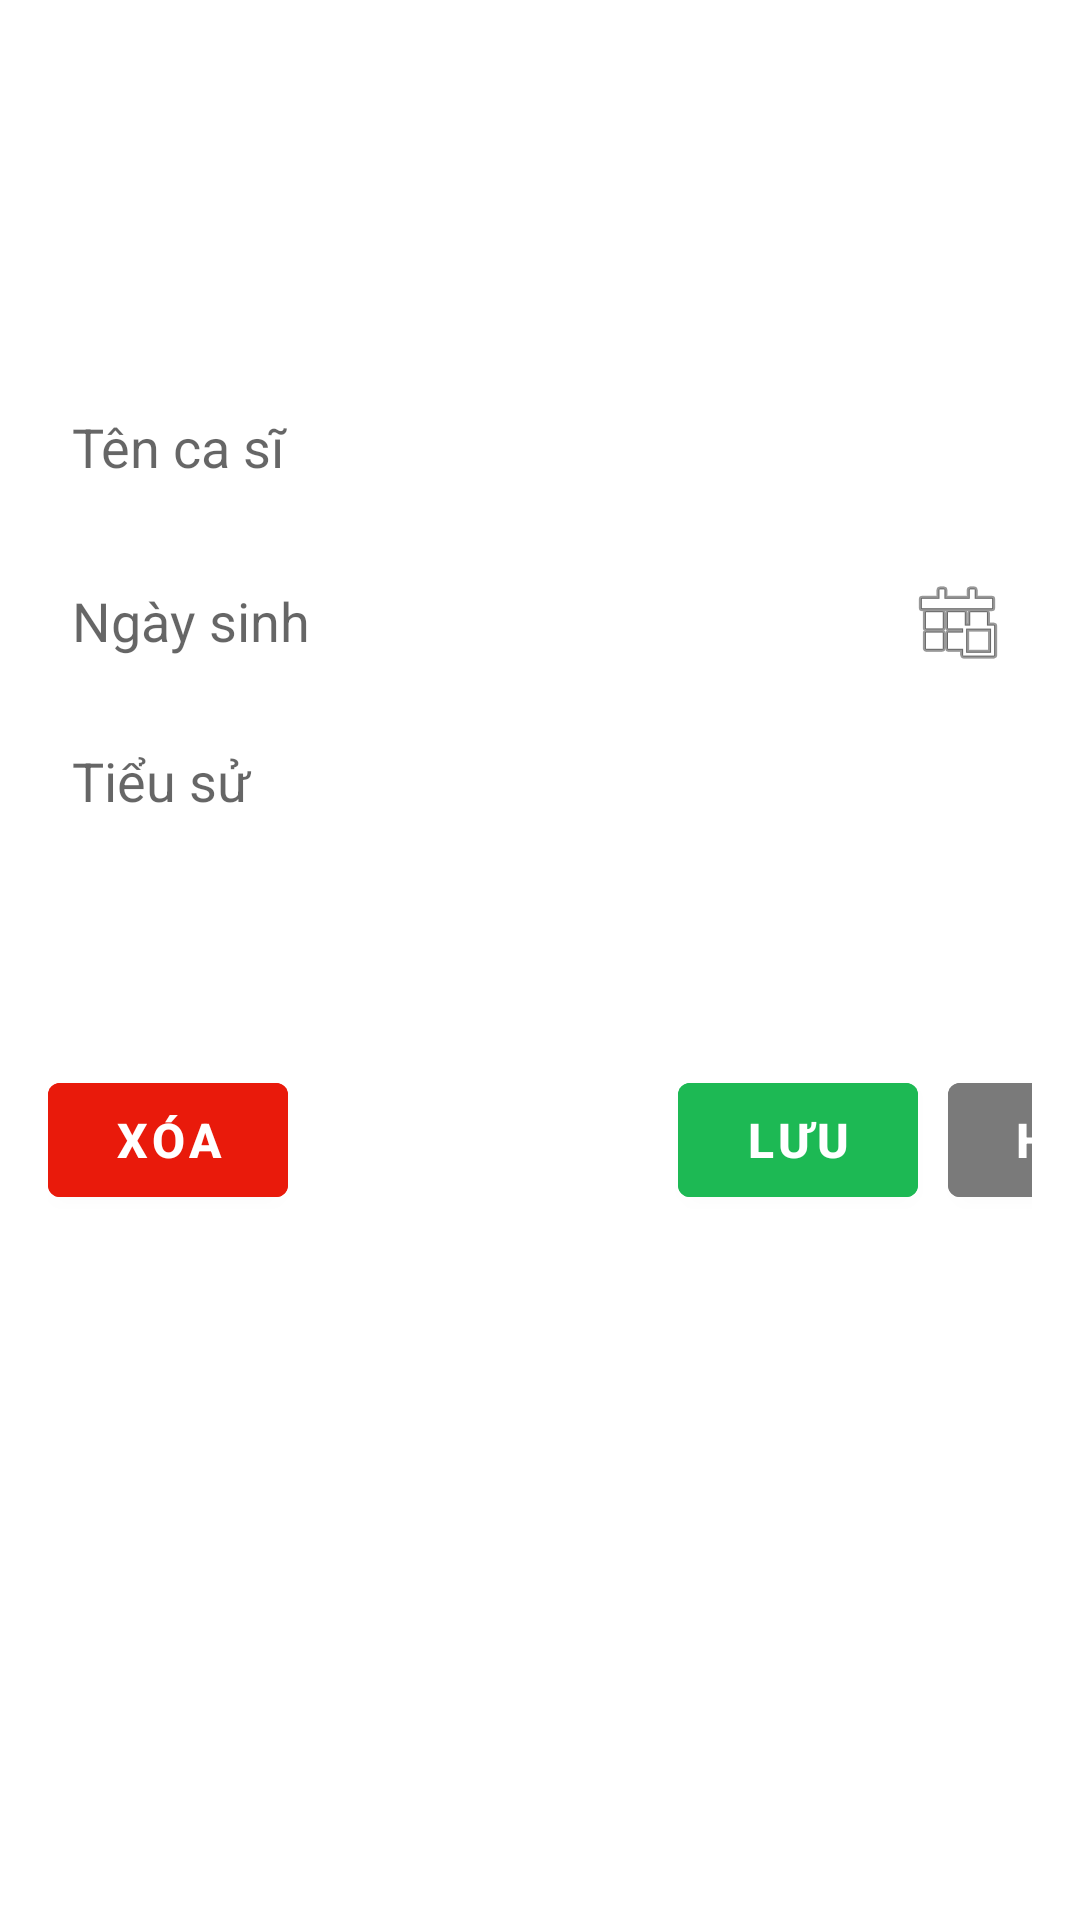

Point at icon controls on the screen. Image size 1080px×1920px, points as (x,y).
Chọn ngày: (958,622)
